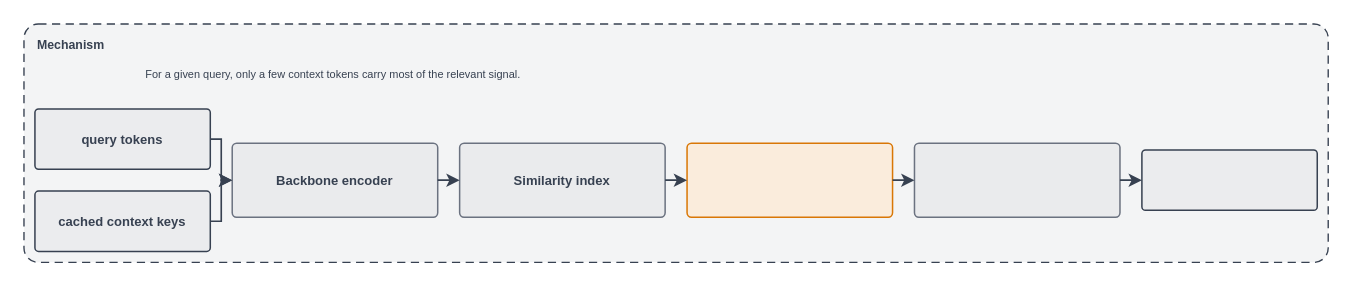
Image size: 1352x286. Some labels were removed from this diagram. The shapes that lost their labels are listed below. From the top down, each one's centre as x and y in pixels, then its label:
At (x=789, y=179): "Fixed Top-K selection".
At (x=1016, y=179): "Decoder".
At (x=1229, y=179): "answer tokens".
